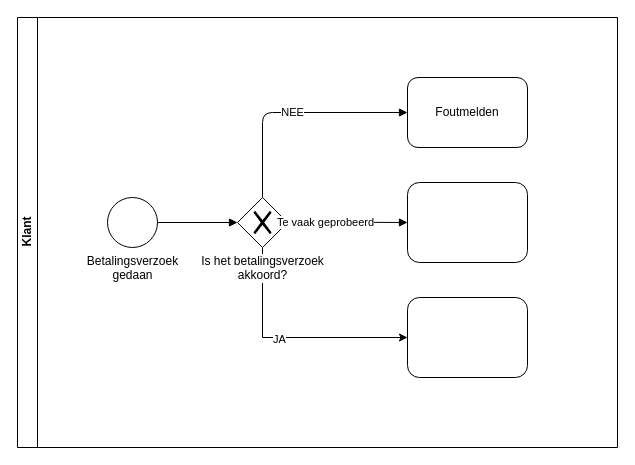
Image size: 635x465. Some labels were removed from this diagram. Here are the shapes that lost their labels. From the top down, the centre of each, then its label:
At point (467, 222): "Afbreken".
At point (467, 337): "Akkoord".
